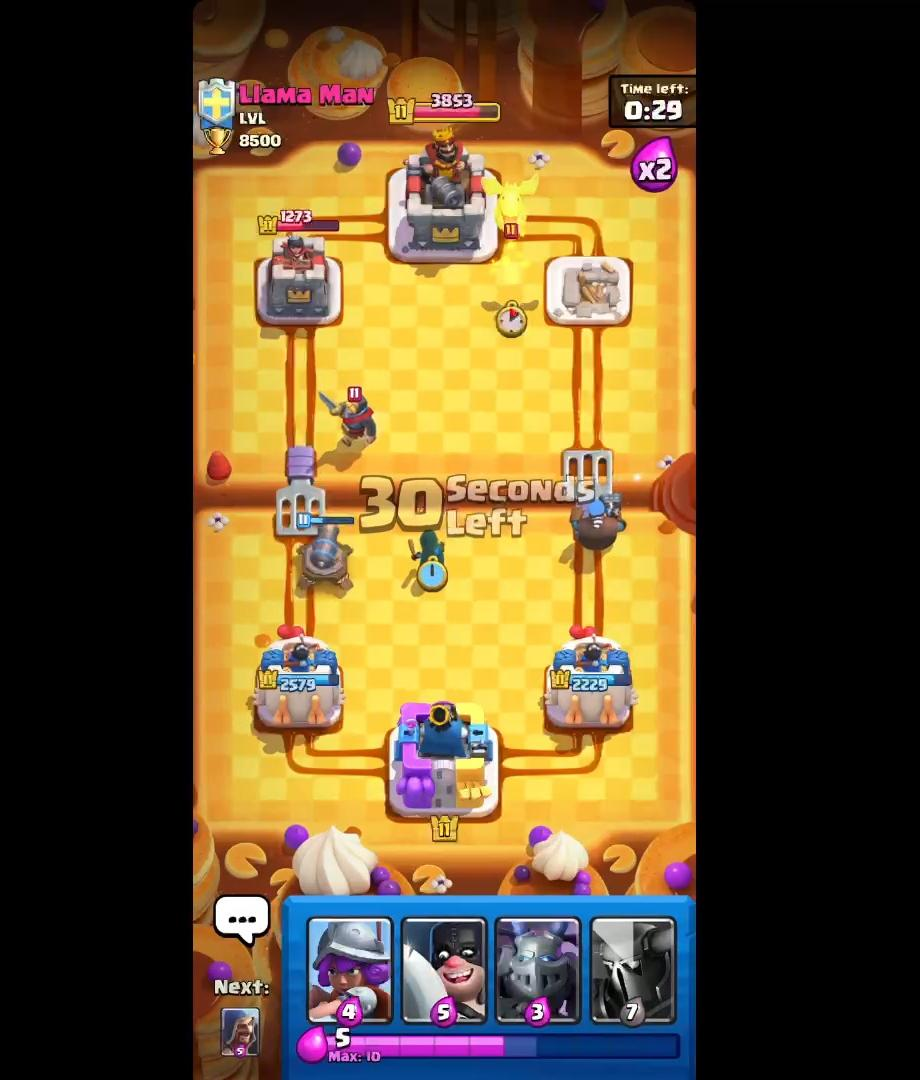Knight: (313, 379, 387, 459)
